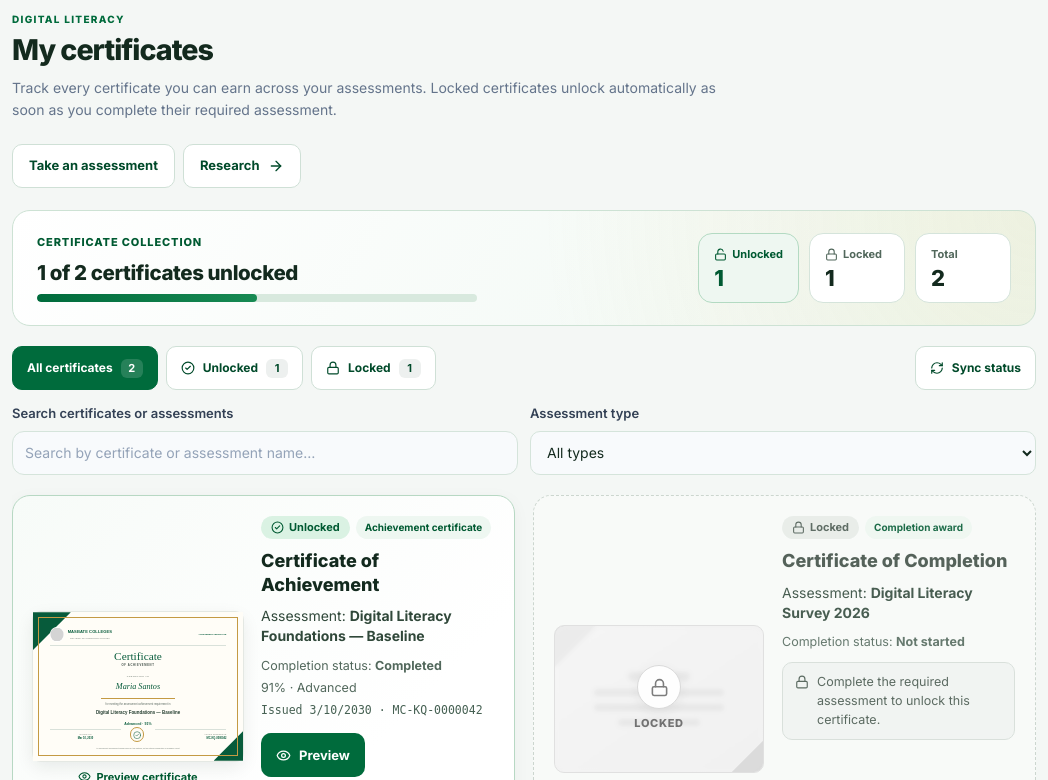
Test: My Certificates lock and unlock collection › filters cards between All certificates, Unlocked, and Locked tabs
Expected: the heading "1 of 2 certificates unlocked" is shown, [37,260,298,284]
Click the button "Locked 1": (373, 368) [311,346,436,390]
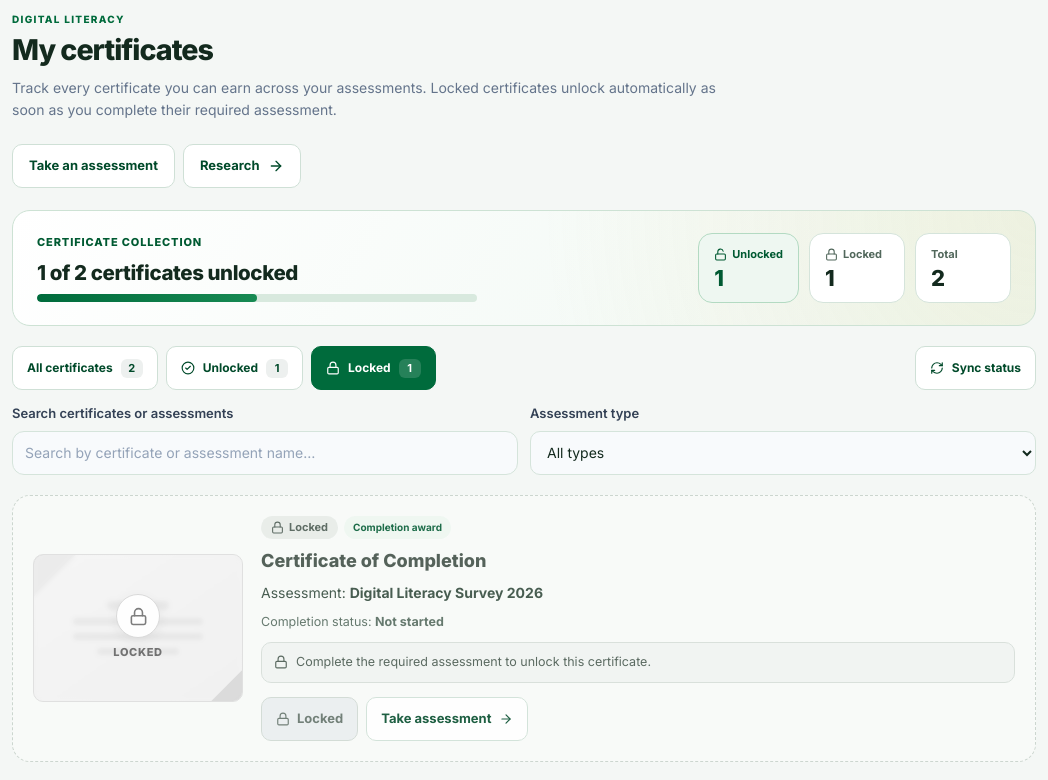
Expected: the heading "Certificate of Completion" is shown, [261,550,486,571]
Expected: the button "Certificate of Achievement" is gone
Click the button "Unlocked 1": (234, 368) [166,346,303,390]
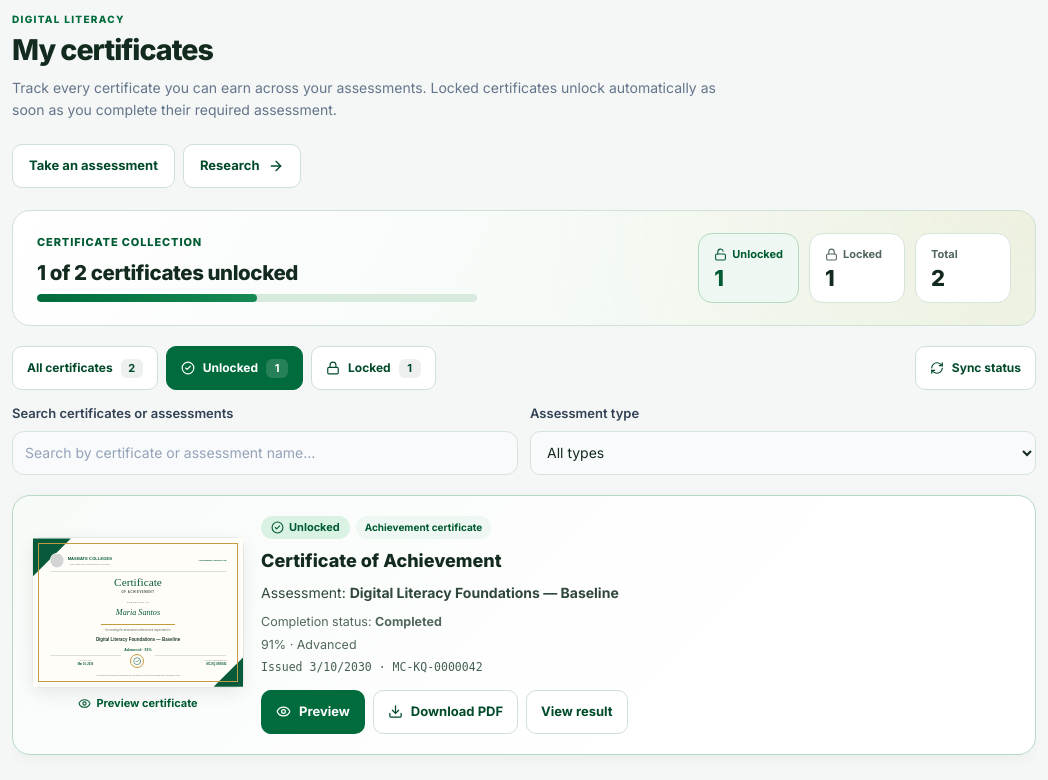
Expected: the heading "Certificate of Achievement" is shown, [261,550,502,571]
Expected: the heading "Certificate of Completion" is gone
